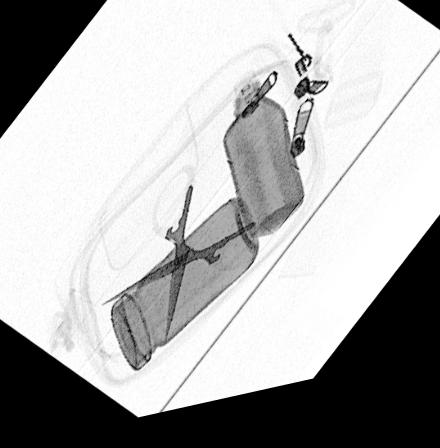Scissors: (98, 168, 287, 349)
